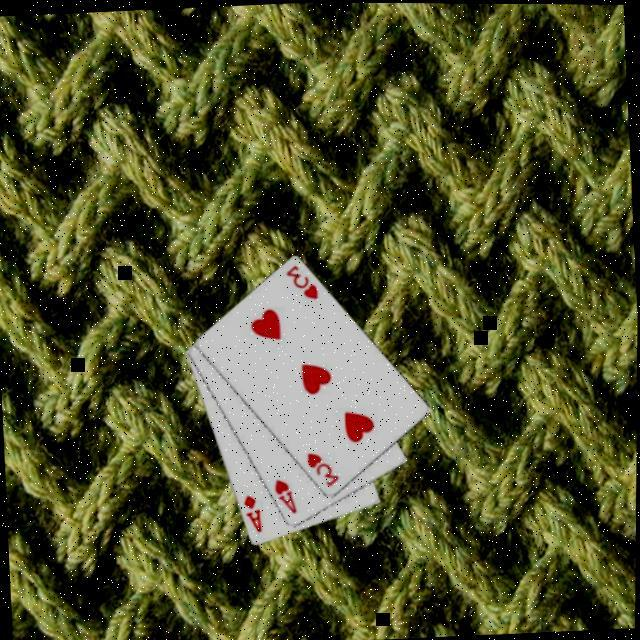3H: (284, 262, 323, 306), (305, 450, 344, 492)
AD: (242, 493, 266, 538)
AH: (273, 478, 301, 518)
